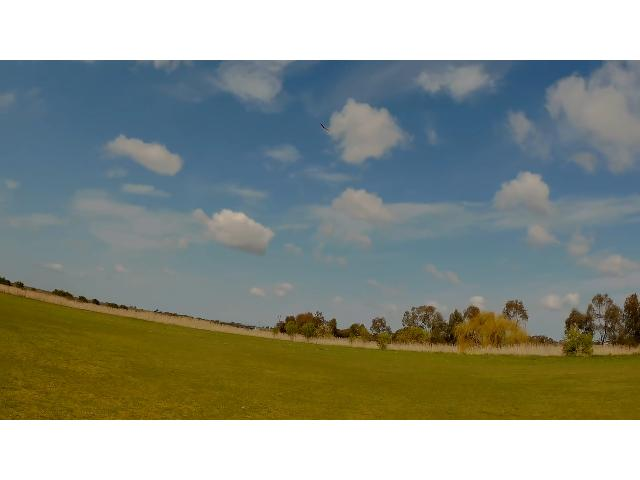Anti-Drone: (322, 123, 330, 131)
